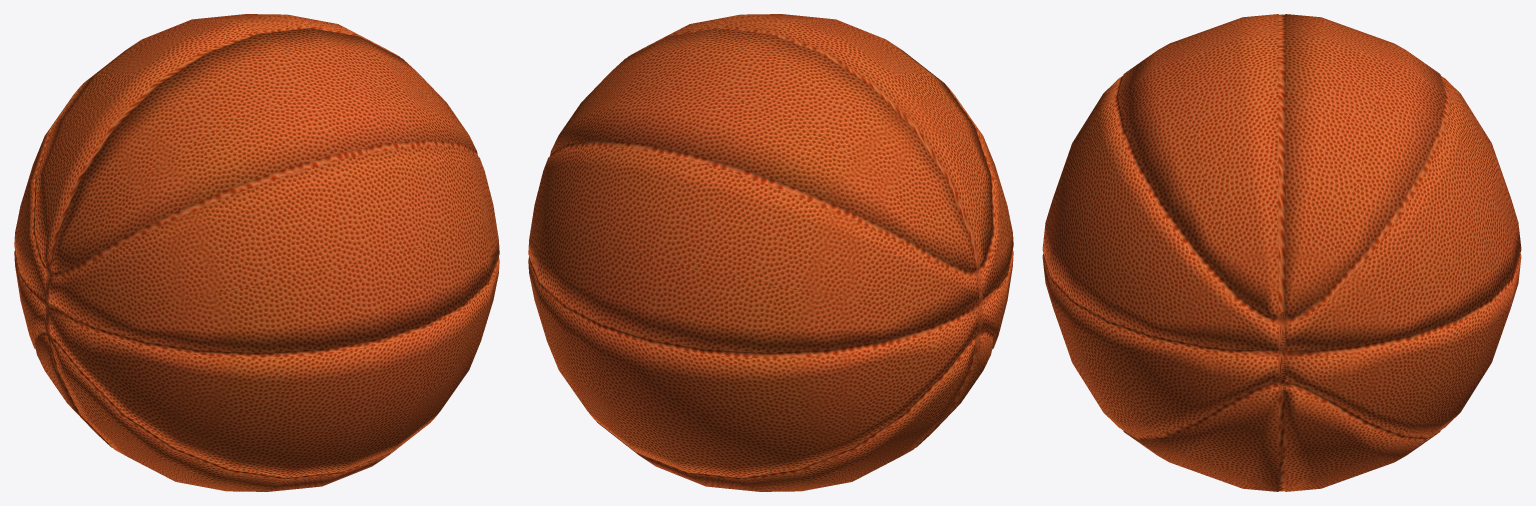
Rendered from 0basketball.obj.
The picture shows the model from 3 angles, left to right: view 1: azimuth 30°, elevation 25°; view 2: azimuth 150°, elevation 25°; view 3: azimuth 270°, elevation 25°; orthographic projection.
Visible parts, largest first — view 1: Basketball; view 2: Basketball; view 3: Basketball.
Part boxes in pixels (x1,y1,x2,y2): Basketball: (14, 14, 499, 491); Basketball: (528, 14, 1013, 491); Basketball: (1042, 14, 1521, 491).
Size of the model in its own units: 1.73 by 1.73 by 1.73.
